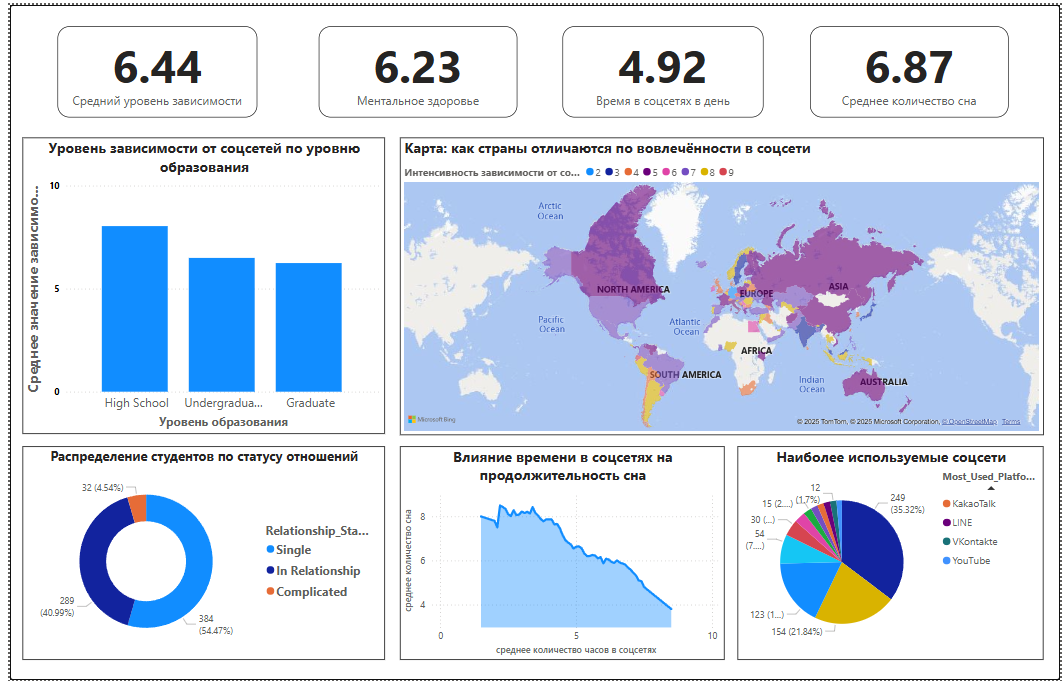

The page's visual inventory and layout, read from the dashboard file:
{"tool":"powerbi","page":{"name":"Страница 1","canvas":[1400,900],"ordinal":0},"visuals":[{"type":"card","fields":{"Values":["Avg(Students Social Media Addiction (2).Addicted_Score)"]},"box":[63.3,28.3,266.7,121.7],"z":0},{"type":"card","fields":{"Values":["Avg(Students Social Media Addiction (2).Mental_Health_Score)"]},"box":[411.7,28.3,265,121.7],"z":1000},{"type":"card","fields":{"Values":["Avg(Students Social Media Addiction (2).Avg_Daily_Usage_Hours)"]},"box":[736.7,28.3,268.3,121.7],"z":2000},{"type":"card","fields":{"Values":["Avg(Students Social Media Addiction (2).Sleep_Hours_Per_Night)"]},"box":[1066.7,28.3,265,121.7],"z":3000},{"type":"clusteredColumnChart","title":"Уровень зависимости от соцсетей по уровню образования","fields":{"Category":["Students Social Media Addiction (2).Academic_Level"],"Y":["Avg(Students Social Media Addiction (2).Addicted_Score)"]},"box":[16.7,176.7,483.3,395],"z":8000},{"type":"pieChart","title":"Наиболее используемые соцсети","fields":{"Category":["Students Social Media Addiction (2).Most_Used_Platform"],"Y":["CountNonNull(Students Social Media Addiction (2).Student_ID)"]},"box":[970,588.3,408.3,285],"z":9000},{"type":"filledMap","title":"Карта: как страны отличаются по вовлечённости в соцсети","fields":{"Category":["Students Social Media Addiction (2).Country"],"Series":["Students Social Media Addiction (2).Addicted_Score"]},"box":[520,176.7,858.3,396.7],"z":10000},{"type":"donutChart","title":"Распределение студентов по статусу отношений","fields":{"Y":["CountNonNull(Students Social Media Addiction (2).Student_ID)"],"Category":["Students Social Media Addiction (2).Relationship_Status"]},"box":[16.7,588.3,483.3,285],"z":11000},{"type":"lineChart","title":"Влияние времени в соцсетях на продолжительность сна","fields":{"Category":["Students Social Media Addiction (2).Avg_Daily_Usage_Hours"],"Y":["Avg(Students Social Media Addiction (2).Sleep_Hours_Per_Night)"]},"box":[520,587.5,432.5,285],"z":12000}]}

Visuals, with their boxes in screenshot pixels (x1, y1, x2, y2), scaled from the page's 1400x900 canvas onto the 1062x681 screenshot:
card - Avg(Students Social Media Addiction (2).Addicted_Score): <region>48, 21, 250, 114</region>
card - Avg(Students Social Media Addiction (2).Mental_Health_Score): <region>312, 21, 513, 114</region>
card - Avg(Students Social Media Addiction (2).Avg_Daily_Usage_Hours): <region>559, 21, 762, 114</region>
card - Avg(Students Social Media Addiction (2).Sleep_Hours_Per_Night): <region>809, 21, 1010, 114</region>
"Уровень зависимости от соцсетей по уровню образования" clusteredColumnChart: <region>13, 134, 379, 433</region>
"Наиболее используемые соцсети" pieChart: <region>736, 445, 1046, 661</region>
"Карта: как страны отличаются по вовлечённости в соцсети" filledMap: <region>394, 134, 1046, 434</region>
"Распределение студентов по статусу отношений" donutChart: <region>13, 445, 379, 661</region>
"Влияние времени в соцсетях на продолжительность сна" lineChart: <region>394, 445, 723, 660</region>
